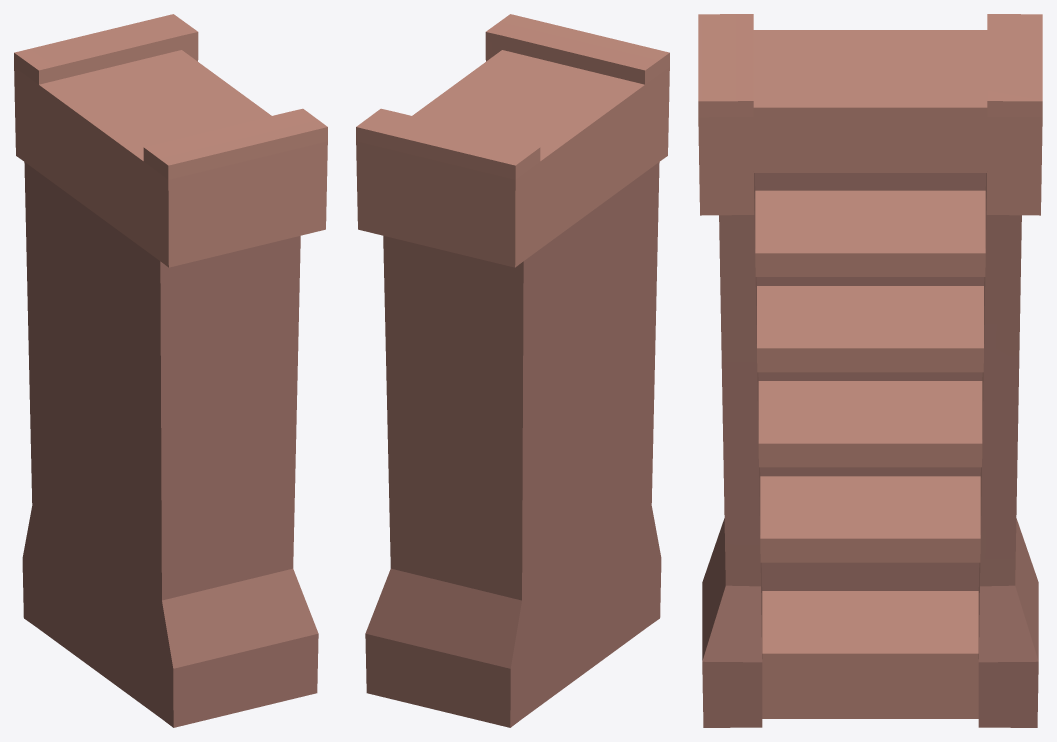
File: BookCase.glb
The picture shows the model from 3 angles, left to right: view 1: azimuth 30°, elevation 25°; view 2: azimuth 150°, elevation 25°; view 3: azimuth 270°, elevation 25°; orthographic projection. The views are drawn at different scales.
Parts seen in each view (by area): view 1: DarkWood.002, Wood.004; view 2: DarkWood.002, Wood.004; view 3: Wood.004, DarkWood.002.
Boxes of the visible parts, left/top/right/bottom form: DarkWood.002: left=22, top=162, right=318, bottom=727; Wood.004: left=14, top=14, right=327, bottom=267; DarkWood.002: left=365, top=162, right=661, bottom=727; Wood.004: left=356, top=14, right=669, bottom=267; Wood.004: left=698, top=14, right=1042, bottom=718; DarkWood.002: left=702, top=173, right=1038, bottom=727.
Bounding box in the file's own units: 0.4519 × 1.53 × 0.7577.
